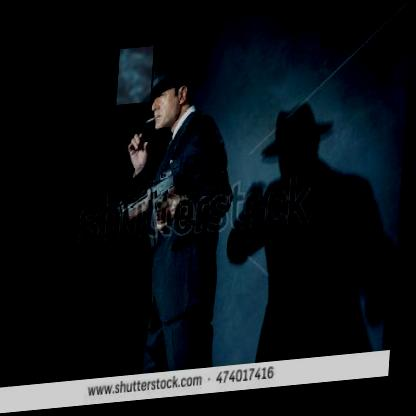smoke: (118, 49, 155, 108)
